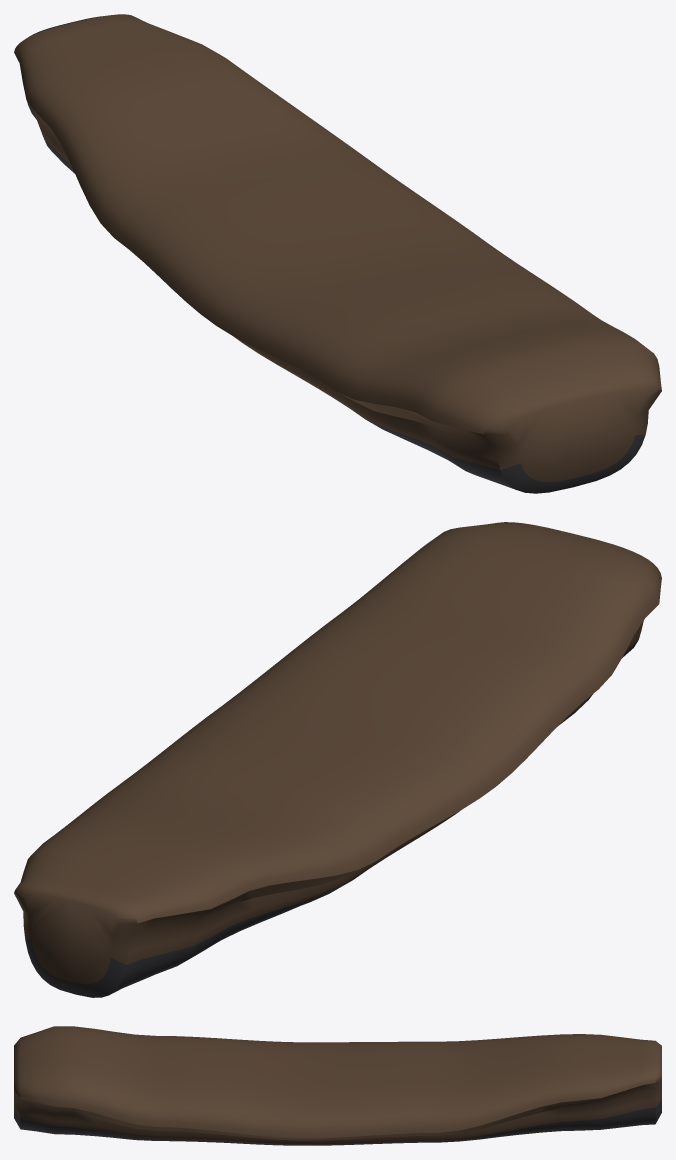
Rendered from gunfighter.glb.
3 renders of one model, top to bottom at view 1: azimuth 30°, elevation 25°; view 2: azimuth 150°, elevation 25°; view 3: azimuth 270°, elevation 25°, orthographic. The views are drawn at different scales.
Visible parts, largest first — view 1: lod0; view 2: lod0; view 3: lod0.
Part boxes in pixels (x1=…): lod0: x1=14, y1=14, x2=661, y2=493; lod0: x1=14, y1=522, x2=661, y2=997; lod0: x1=14, y1=1026, x2=661, y2=1145.
Size of what is drawn, in the model's own units: 0.3189 by 0.1195 by 1.
